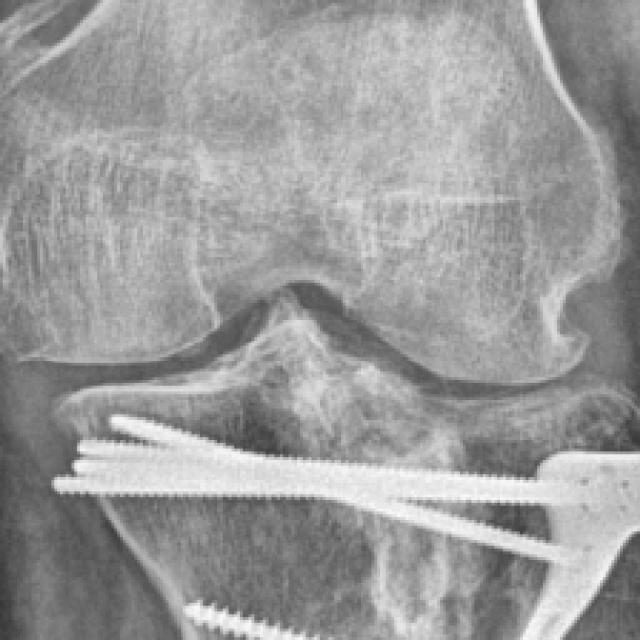femur: (0, 0, 623, 385)
tibia: (51, 288, 640, 640)
